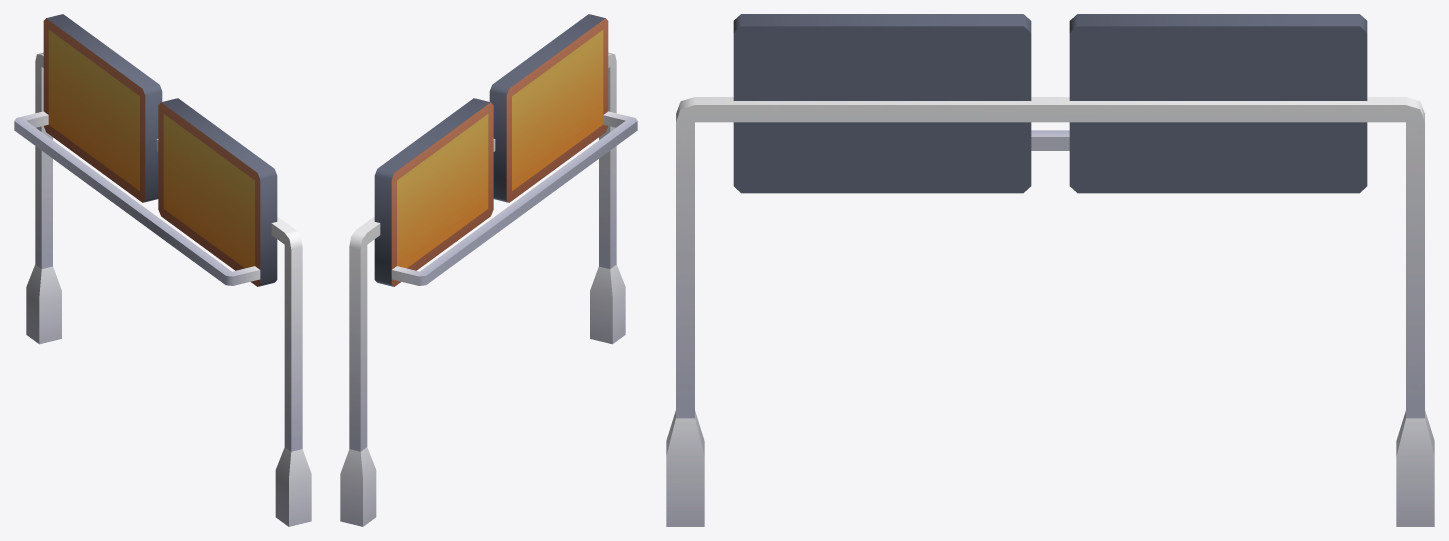
File: sign-highway.glb
3 renders of one model, left to right at view 1: azimuth 30°, elevation 25°; view 2: azimuth 150°, elevation 25°; view 3: azimuth 270°, elevation 25°, orthographic. The views are drawn at different scales.
Visible parts, largest first — view 1: sign-highway; view 2: sign-highway; view 3: sign-highway.
Boxes of the visible parts, x1,y1,x2,y2 form: sign-highway: [14, 14, 311, 526]; sign-highway: [340, 14, 637, 526]; sign-highway: [666, 14, 1434, 526].
Size of the model in its own units: 0.1324 by 0.7074 by 1.
Materials: 1 (1 with a texture image).
